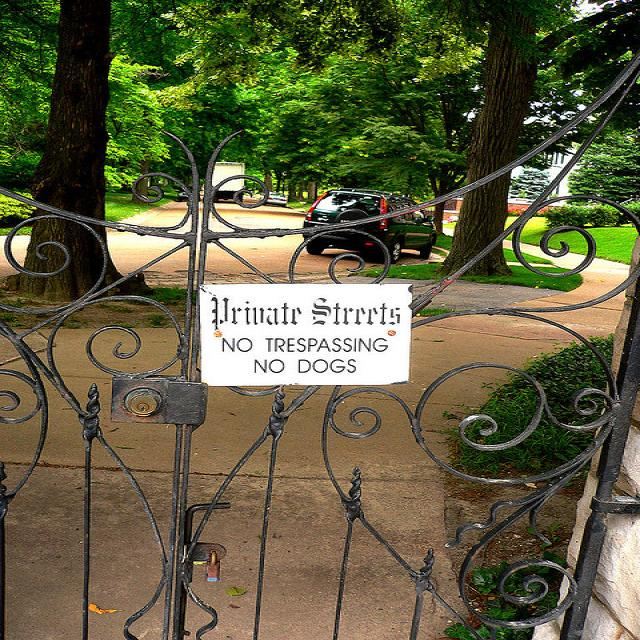Vehicle: (303, 188, 438, 264), (212, 162, 245, 204), (259, 192, 287, 206), (178, 186, 193, 201)
